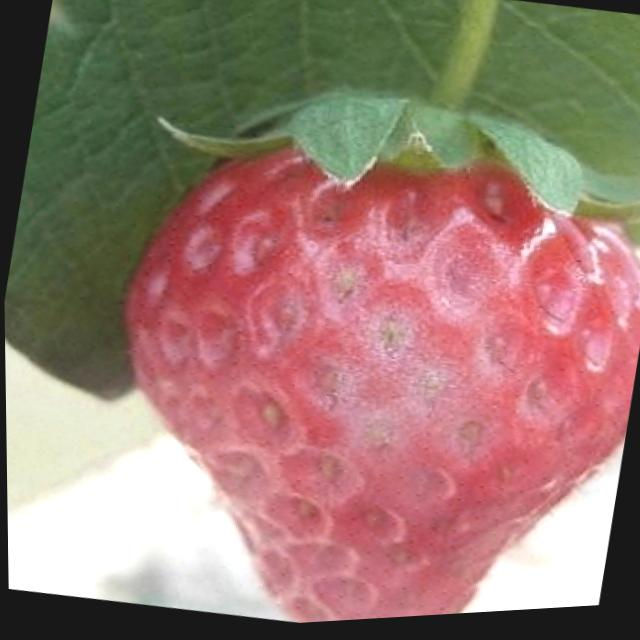Powdery Mildew Fruit: (213, 125, 599, 538)
